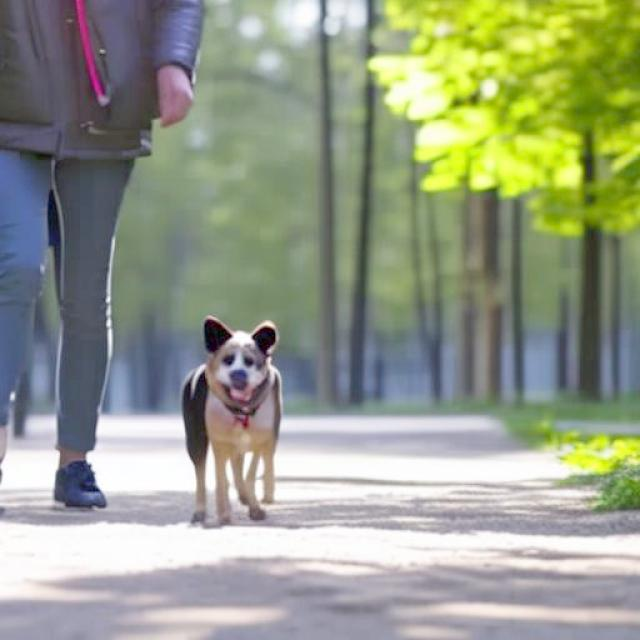Unleashed_Dog: (32, 126, 284, 529)
